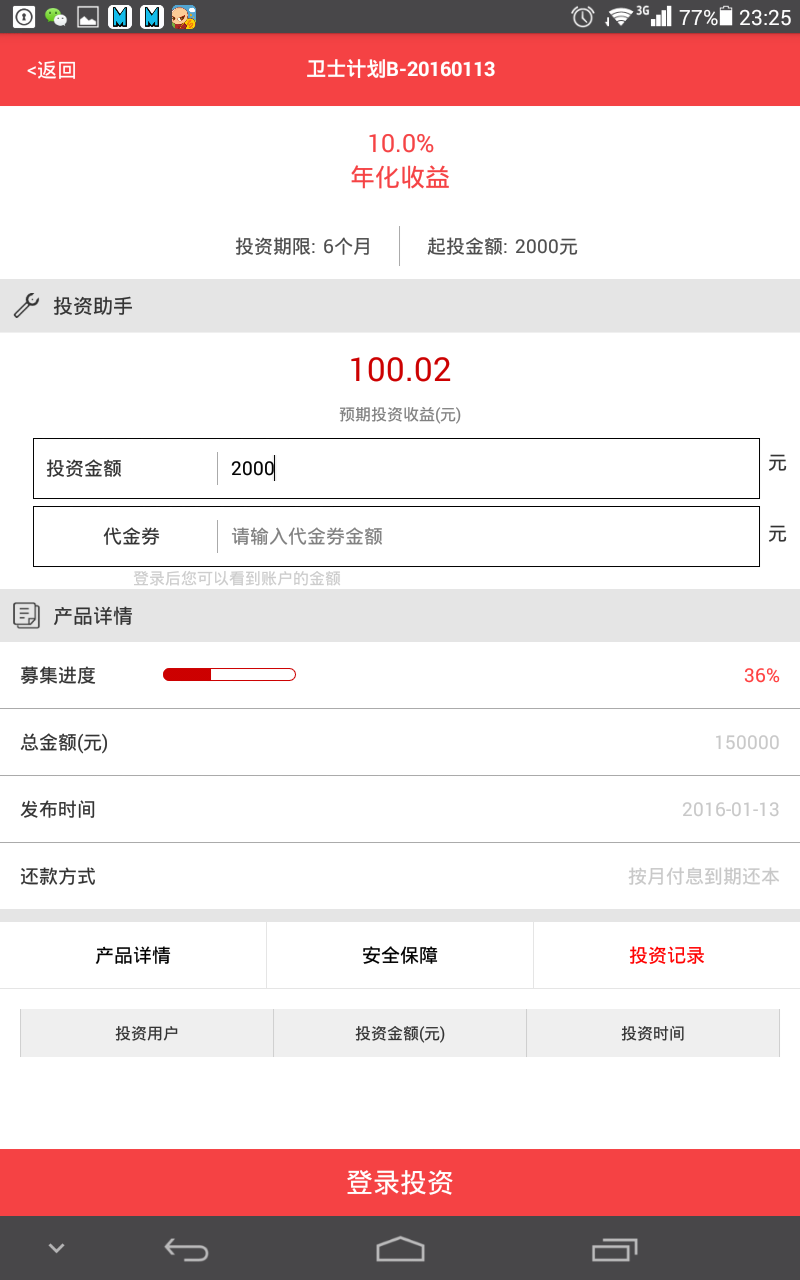textview: (13, 645, 800, 911)
